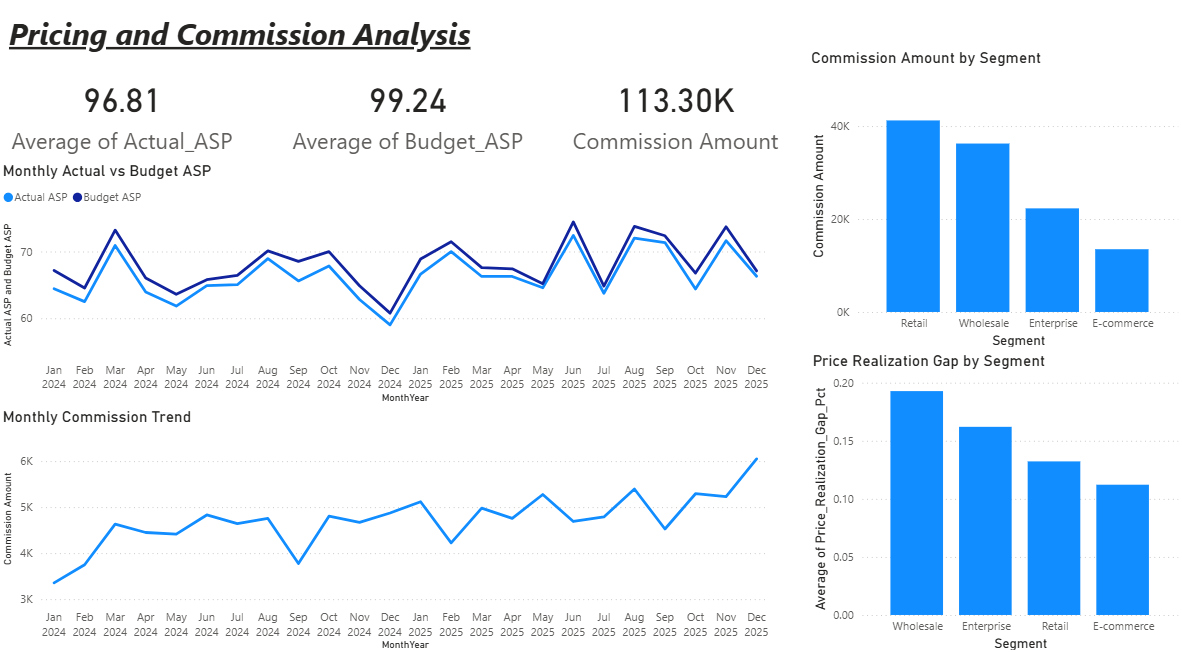

What the dashboard file says about the page in this screenshot:
{"tool":"powerbi","page":{"name":"Pricing Analysis","canvas":[1280,720],"ordinal":1},"visuals":[{"type":"card","fields":{"Values":["Avg(FactSalesKPI.Actual_ASP)"]},"box":[0,81,267.2,106.9],"z":0},{"type":"card","fields":{"Values":["Avg(FactSalesKPI.Budget_ASP)"]},"box":[306,81,272,106.9],"z":1000},{"type":"card","fields":{"Values":["FactSalesKPI.Commission Amount"]},"box":[612.1,81,238,106.9],"z":2000},{"type":"lineChart","title":"Monthly Actual vs Budget ASP","fields":{"Category":["DimDate.MonthYear"],"Y":["FactSalesKPI.Actual ASP","FactSalesKPI.Budget ASP"]},"box":[0,187.8,838.8,265.6],"z":3000},{"type":"clusteredColumnChart","fields":{"Category":["FactSalesKPI.Segment"],"Y":["FactSalesKPI.Commission Amount"]},"box":[872.8,66.4,406.4,327.1],"z":4000},{"type":"lineChart","title":"Monthly Commission Trend","fields":{"Category":["DimDate.MonthYear"],"Y":["FactSalesKPI.Commission Amount"]},"box":[0,453.4,838.8,267.2],"z":5000},{"type":"clusteredColumnChart","title":"Price Realization Gap by Segment","fields":{"Category":["FactPricing.Segment"],"Y":["Avg(FactPricing.Price_Realization_Gap_Pct)"]},"box":[874.4,393.5,404.8,327.1],"z":6000},{"type":"textbox","box":[6.5,22.7,534.3,74.5],"z":7000}]}

Visuals, with their boxes in screenshot pixels (x1, y1, x2, y2), scaled from the page's 1280x720 canvas onto the 1182x652 screenshot:
card - Avg(FactSalesKPI.Actual_ASP): pyautogui.locateOnScreen(0, 73, 247, 170)
card - Avg(FactSalesKPI.Budget_ASP): pyautogui.locateOnScreen(283, 73, 534, 170)
card - FactSalesKPI.Commission Amount: pyautogui.locateOnScreen(565, 73, 785, 170)
"Monthly Actual vs Budget ASP" lineChart: pyautogui.locateOnScreen(0, 170, 775, 411)
clusteredColumnChart - FactSalesKPI.Segment x FactSalesKPI.Commission Amount: pyautogui.locateOnScreen(806, 60, 1181, 356)
"Monthly Commission Trend" lineChart: pyautogui.locateOnScreen(0, 411, 775, 651)
"Price Realization Gap by Segment" clusteredColumnChart: pyautogui.locateOnScreen(807, 356, 1181, 651)
textbox: pyautogui.locateOnScreen(6, 21, 499, 88)
